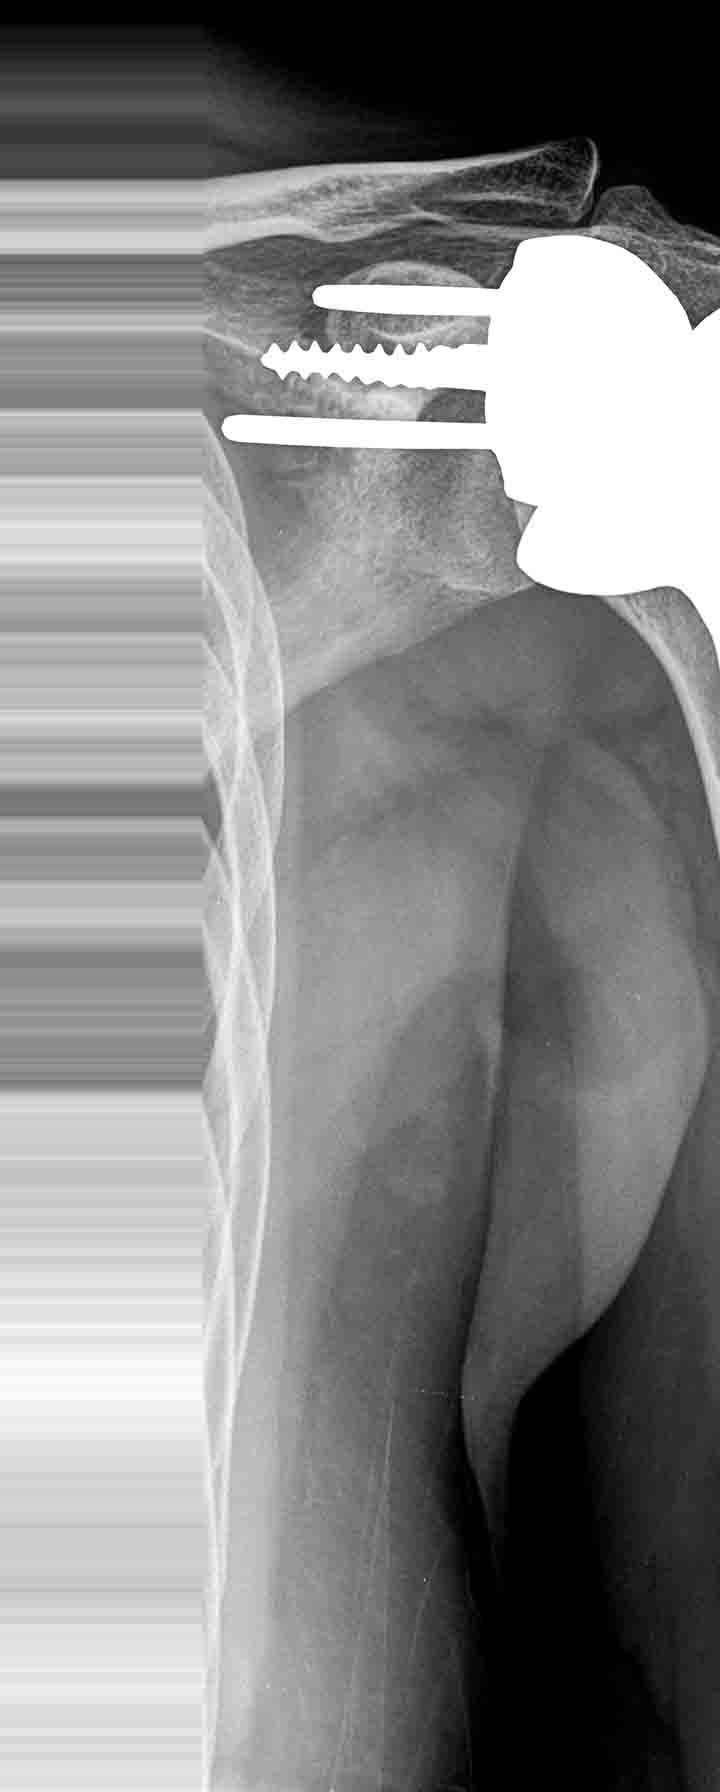Shoulder-Reverse-DJO: (181, 207, 720, 679)
